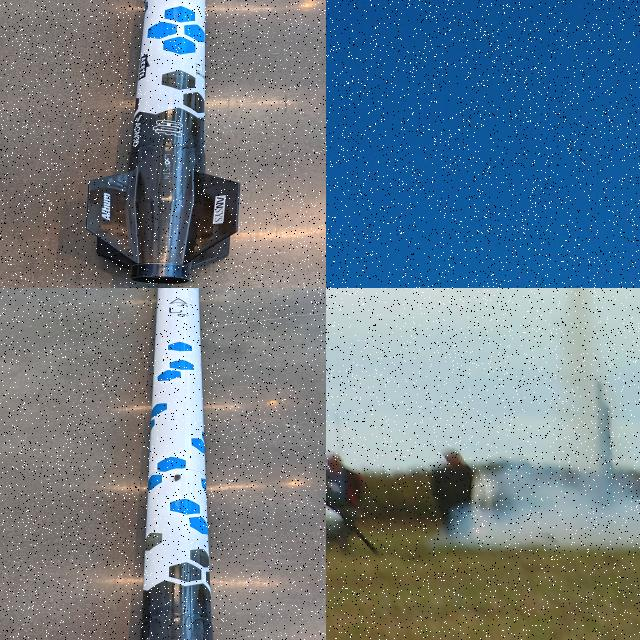Rocket: (85, 0, 241, 286), (140, 288, 213, 640)
